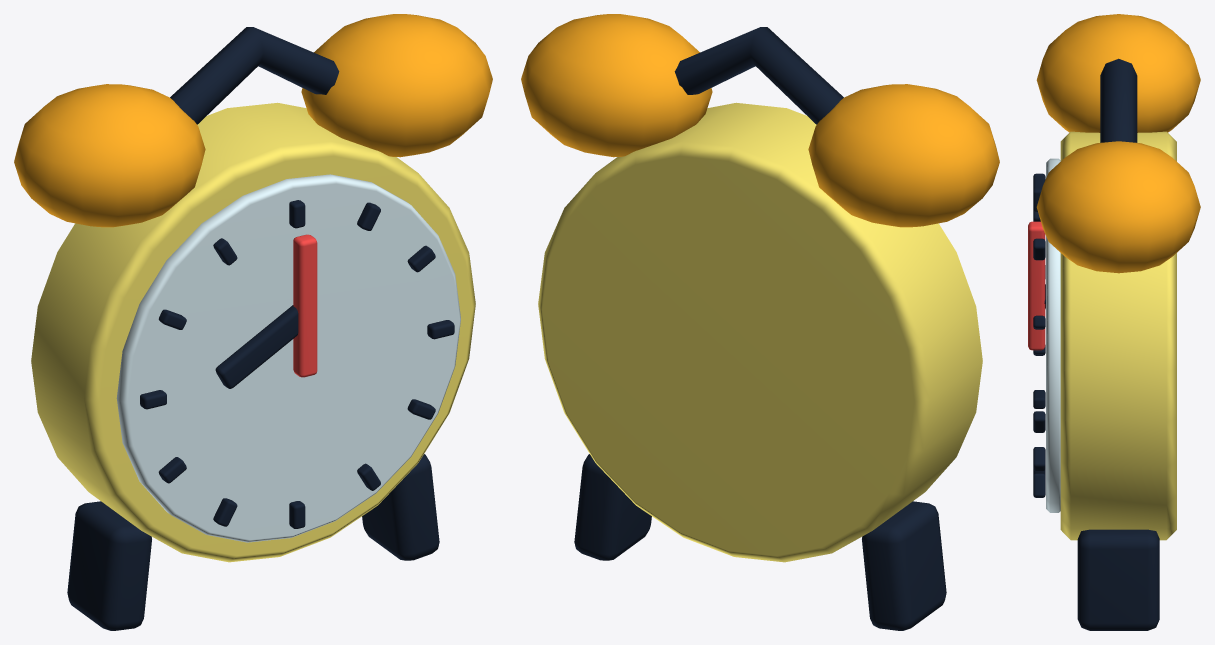
The model's file is alarmclock.glb.
3 views of the same model, side by side, from view 1: azimuth 30°, elevation 25°; view 2: azimuth 150°, elevation 25°; view 3: azimuth 270°, elevation 25° (orthographic). The views are drawn at different scales.
Visible parts, largest first — view 1: alarmclock; view 2: alarmclock; view 3: alarmclock.
Part boxes in pixels (<box>): alarmclock: <box>14,14,492,630</box>; alarmclock: <box>521,14,999,630</box>; alarmclock: <box>1028,14,1200,630</box>.
Size of the model in its own units: 0.8609 by 1 by 0.3105.
1 material, 1 textured.
